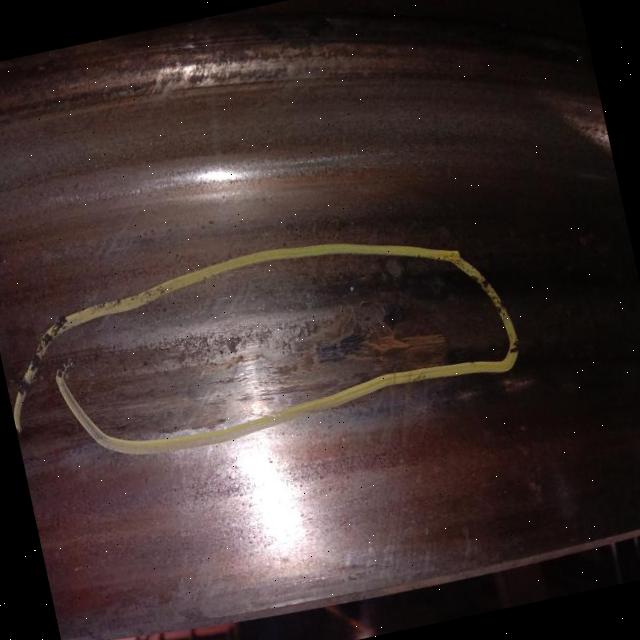Peeling: (105, 284, 441, 419)
